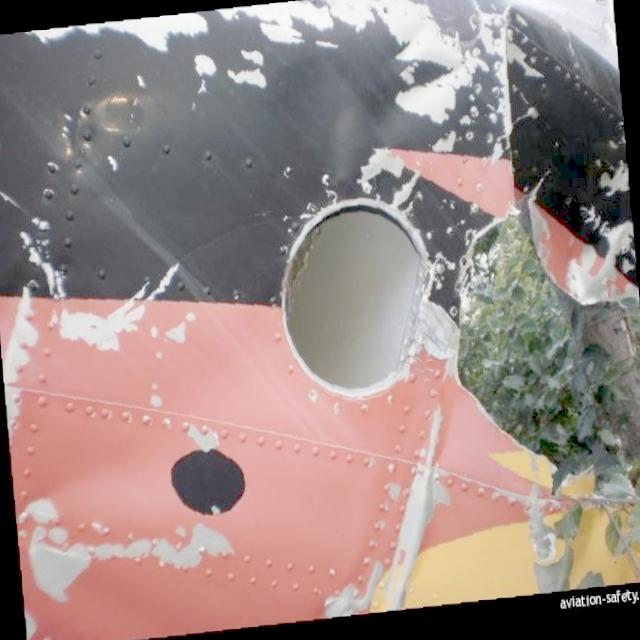dent: (276, 48, 420, 184), (18, 432, 180, 533)
